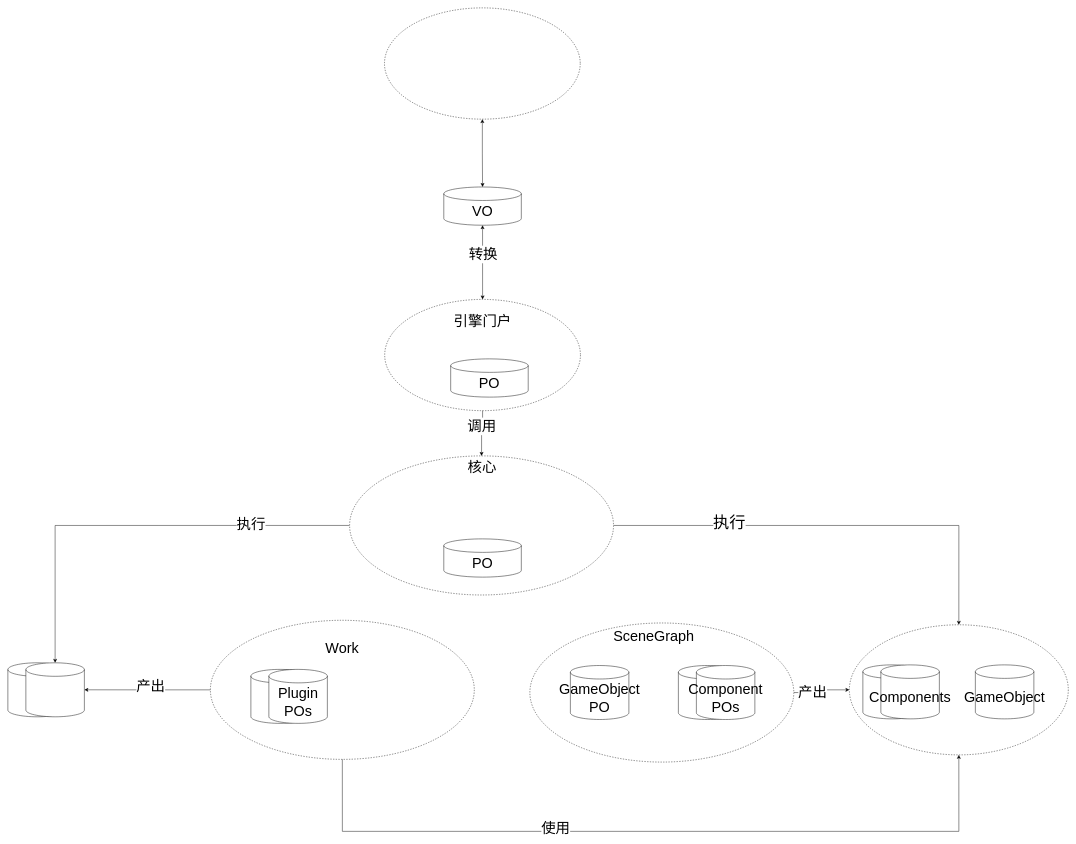
Some shapes in this 1076 by 844 pixel diagram are drawn without their labels. Here are the shapes that lost their labels. From the top down, the centre of each, then its label:
pixel 482 63: App
pixel 54 689: Jobs
